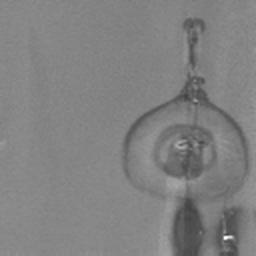Slag inclusion: (122, 15, 250, 256)
